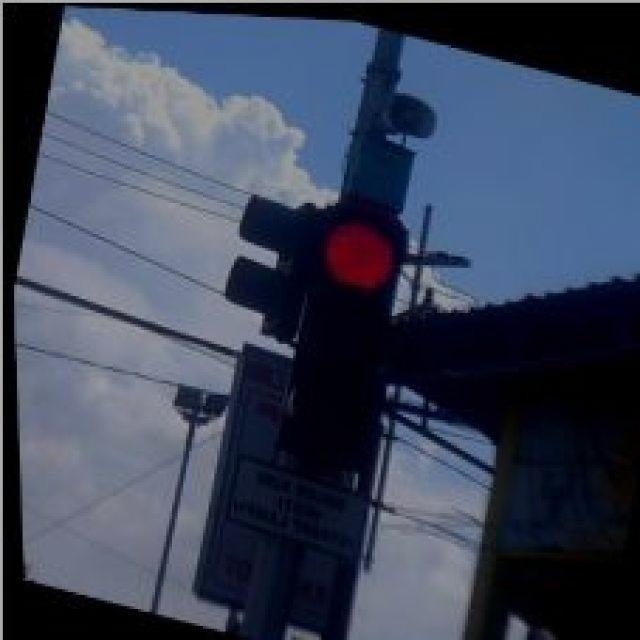Red: (260, 178, 422, 470)
